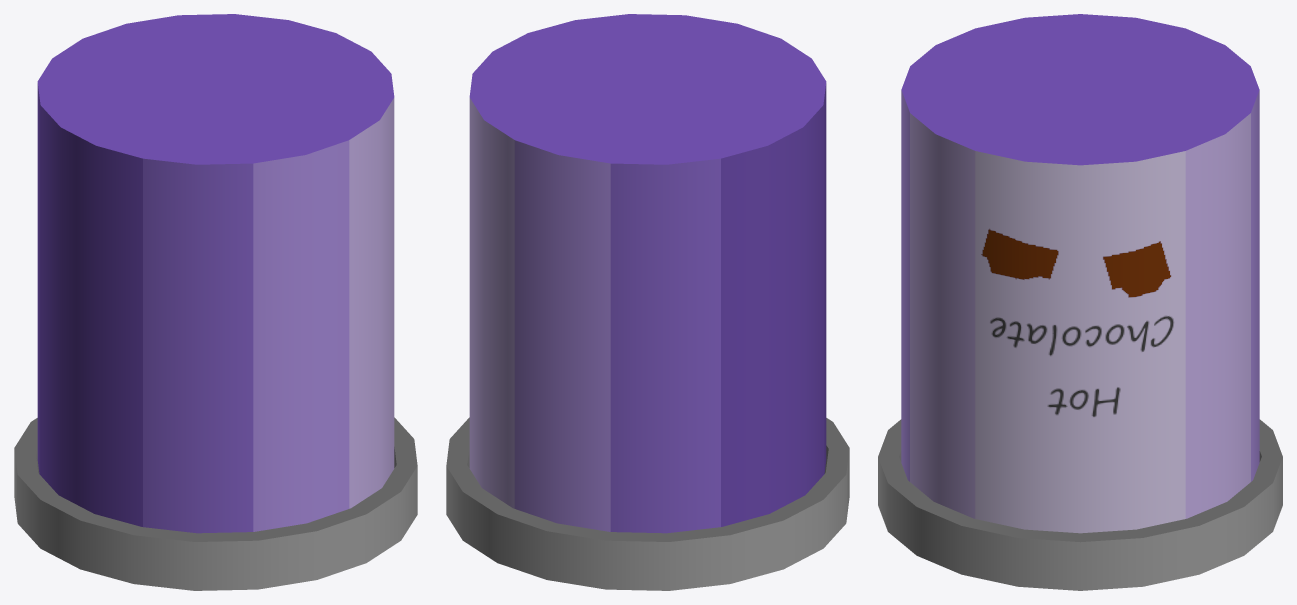
File: hotchoctin.fbx
3 views of the same model, side by side, from view 1: azimuth 30°, elevation 25°; view 2: azimuth 150°, elevation 25°; view 3: azimuth 270°, elevation 25° (orthographic).
Visible parts, largest first — view 1: pCylinder1, pCylinder2; view 2: pCylinder1, pCylinder2; view 3: pCylinder1, pCylinder2.
Part boxes in pixels (x1,y1,x2,y2): pCylinder1: (37, 14, 394, 533); pCylinder2: (14, 417, 417, 590); pCylinder1: (469, 14, 826, 533); pCylinder2: (446, 417, 849, 590); pCylinder1: (901, 14, 1259, 533); pCylinder2: (878, 419, 1282, 590).
Bounding box in the file's own units: 6.91 × 7.83 × 6.91.
Materials: 1 (1 with a texture image).
